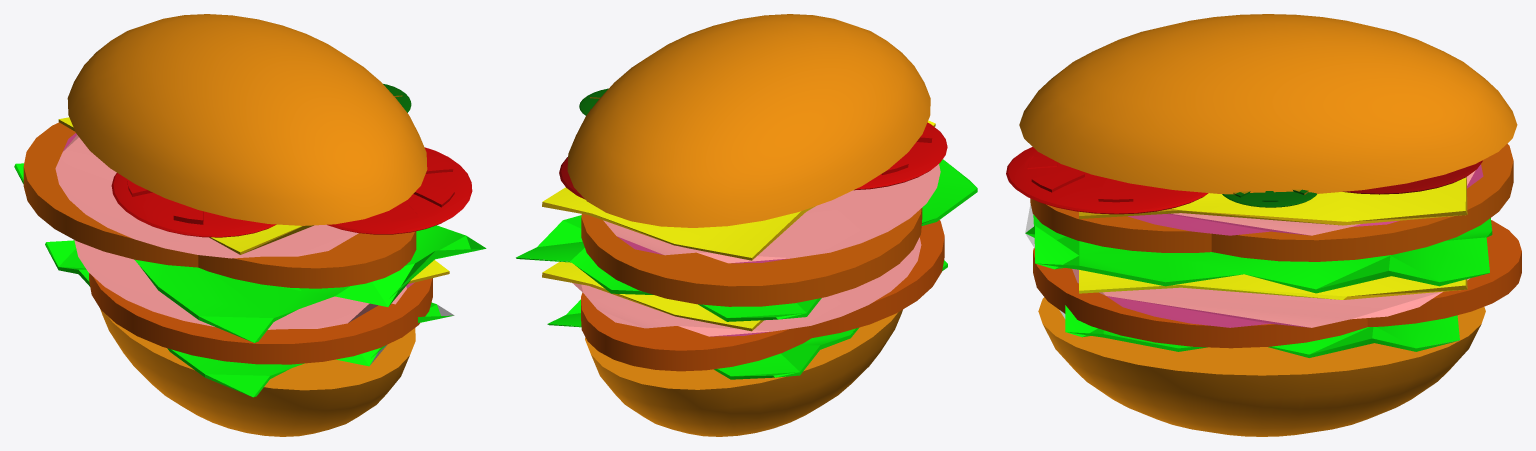
Rendered from carne fria.glb.
3 renders of one model, left to right at view 1: azimuth 30°, elevation 25°; view 2: azimuth 150°, elevation 25°; view 3: azimuth 270°, elevation 25°, orthographic. The views are drawn at different scales.
Visible parts, largest first — view 1: skpCB83; view 2: skpCB83; view 3: skpCB83.
Boxes of the visible parts, box(x1,y1,x2,y2) form: skpCB83: box(14, 14, 486, 436); skpCB83: box(516, 14, 977, 436); skpCB83: box(1006, 14, 1521, 436).
Bounding box in the file's own units: 2.28 × 2.38 × 2.89.
